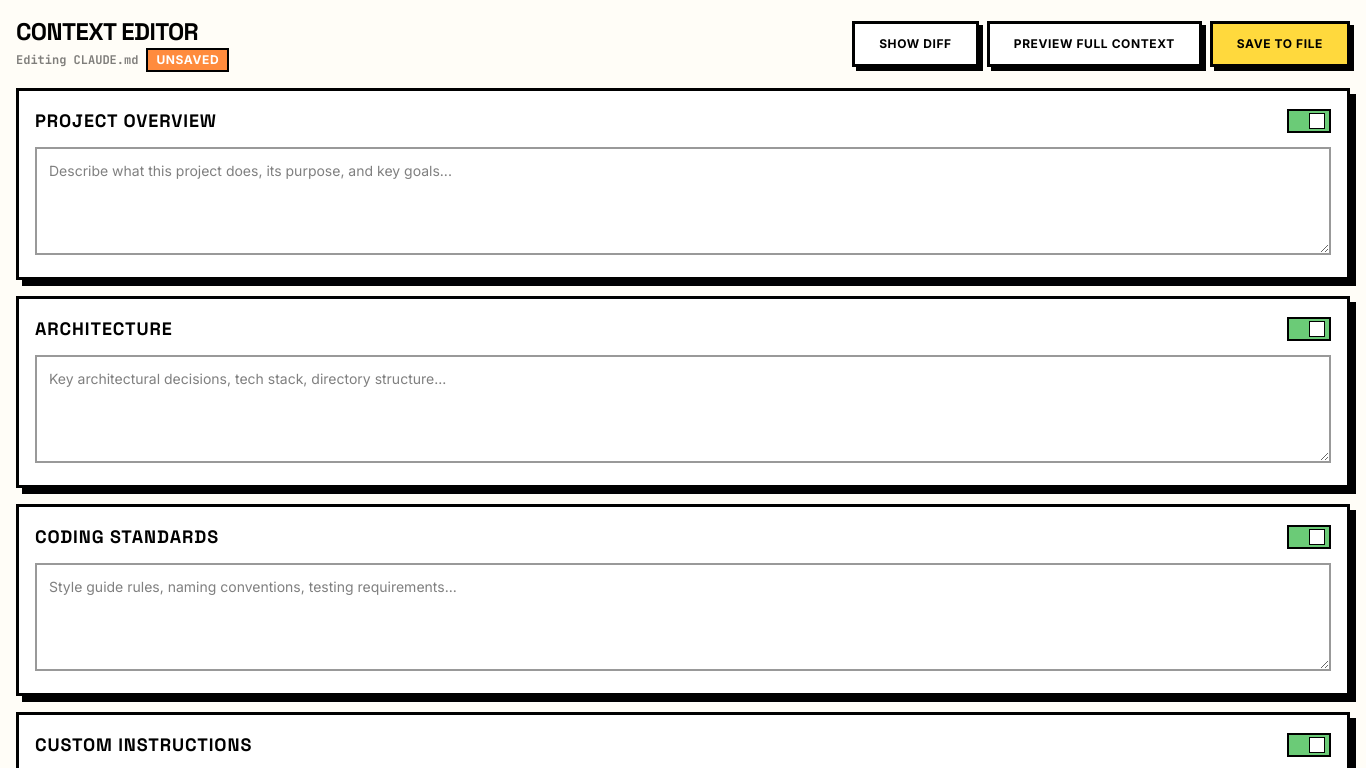
ContextEditor › toggles a section off and hides editor
The image size is (1366, 768).
What coordinates should you click on to do the following:
click the switch with test id "context-section-toggle" in the row of "Project Overview"
I would click on:
 (1309, 121)
Its box is [1287,109,1331,133].
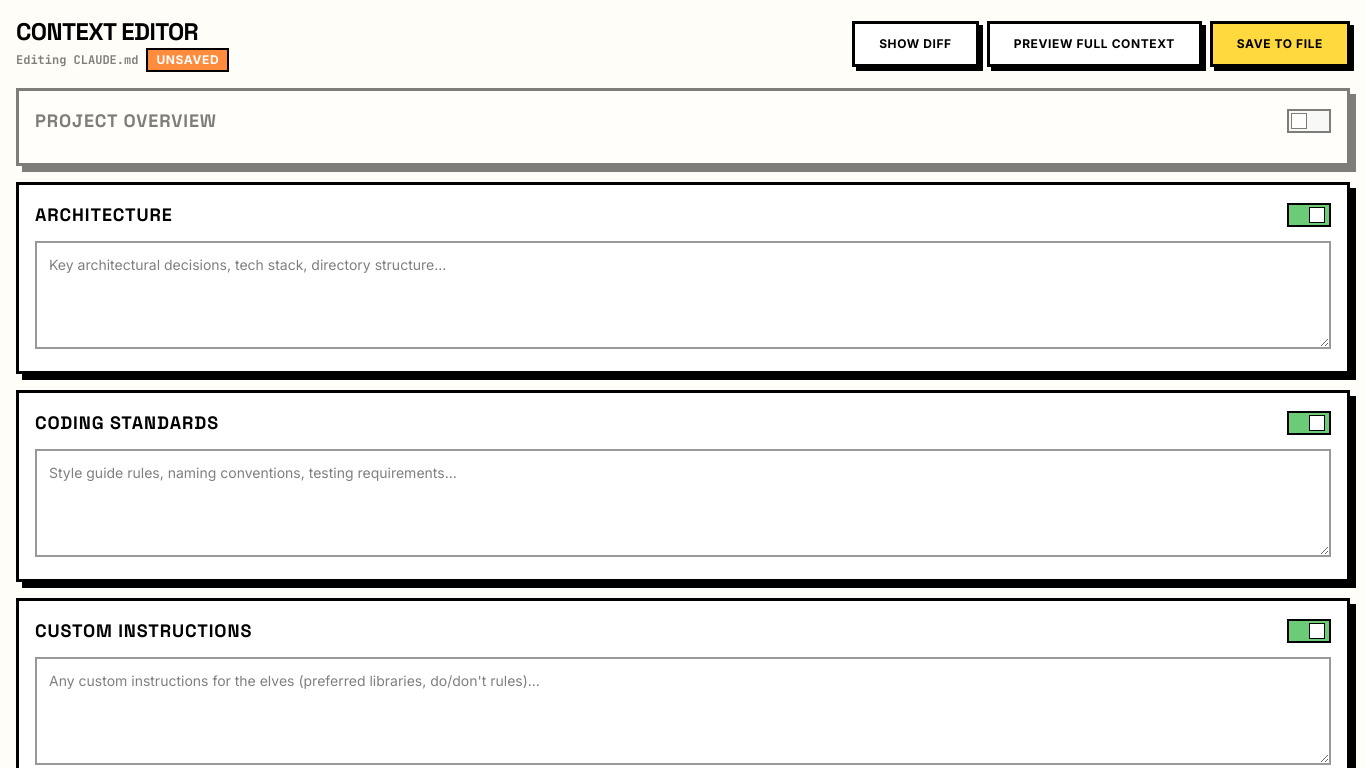
Result: the number of text boxes with test id "context-section-editor" is 3 at [35,241,1331,349]; [35,449,1331,557]; [35,657,1331,765]
